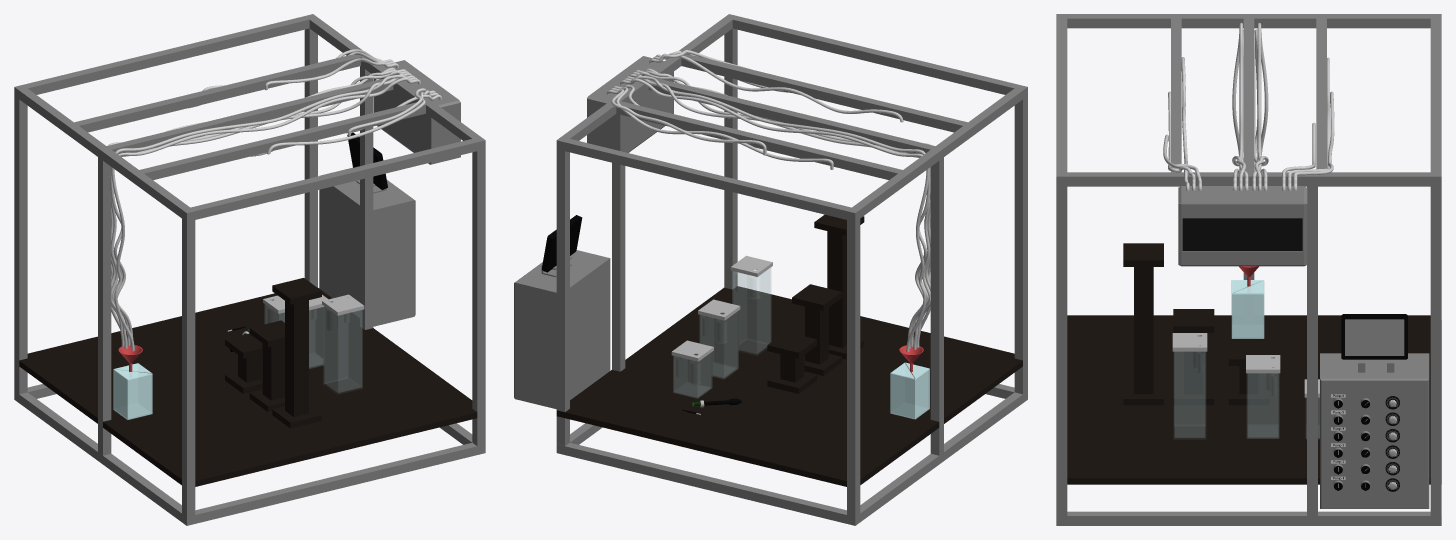
Rendered from juiceMixer_pipes.fbx.
3 renders of one model, left to right at view 1: azimuth 30°, elevation 25°; view 2: azimuth 150°, elevation 25°; view 3: azimuth 270°, elevation 25°, orthographic. The views are drawn at different scales.
Visible parts, largest first — view 1: base_table, Cube, pillars.002, base_large, pillars.003, pillars.001, pillars.008, pillars.007, pillars.010, pillars.012, pillars.015, pillars.014 (+19 smaller); view 2: base_table, Cube, pillars.003, pillars.002, pillars.016, pillars.010, pillars.005, pillars.012, pillars.008, pillars.014, pillars.015, pillars (+21 smaller); view 3: base_table, Cube, box, pillars.006, pillars.011, pillars.009, base_large, pillars.001, pillars.016, pillars, screen, Base.002 (+17 smaller).
Part boxes in pixels (bbox=[...]): base_table: bbox=[19, 288, 477, 486]; Cube: bbox=[319, 167, 415, 326]; pillars.002: bbox=[182, 207, 195, 525]; base_large: bbox=[272, 278, 321, 428]; pillars.003: bbox=[14, 85, 27, 402]; pillars.001: bbox=[472, 149, 485, 446]; pillars.008: bbox=[190, 139, 477, 219]; pillars.007: bbox=[195, 442, 477, 523]; pillars.010: bbox=[23, 16, 309, 94]; pillars.012: bbox=[98, 157, 111, 455]; pillars.015: bbox=[74, 55, 360, 132]; pillars.014: bbox=[139, 102, 425, 180]; base_table: bbox=[556, 286, 1022, 486]; Cube: bbox=[514, 250, 610, 409]; pillars.003: bbox=[847, 207, 860, 525]; pillars.002: bbox=[1014, 85, 1027, 402]; pillars.016: bbox=[556, 149, 569, 445]; pillars.010: bbox=[565, 139, 851, 219]; pillars.005: bbox=[565, 443, 846, 523]; pillars.012: bbox=[930, 157, 943, 455]; pillars.008: bbox=[732, 16, 1018, 94]; pillars.014: bbox=[681, 54, 967, 132]; pillars.015: bbox=[616, 101, 902, 179]; pillars: bbox=[612, 113, 625, 371]; base_table: bbox=[1067, 315, 1441, 484]; Cube: bbox=[1320, 353, 1429, 508]; box: bbox=[1178, 186, 1307, 266]; pillars.006: bbox=[1056, 511, 1441, 525]; pillars.011: bbox=[1067, 14, 1430, 28]; pillars.009: bbox=[1056, 172, 1441, 186]; base_large: bbox=[1123, 243, 1163, 405]; pillars.001: bbox=[1056, 186, 1067, 515]; pillars.016: bbox=[1430, 186, 1441, 515]; pillars: bbox=[1307, 186, 1317, 515]; screen: bbox=[1341, 314, 1407, 359]; Base.002: bbox=[1174, 336, 1205, 437].
Bounding box in the file's own units: 249 × 216 × 212.
